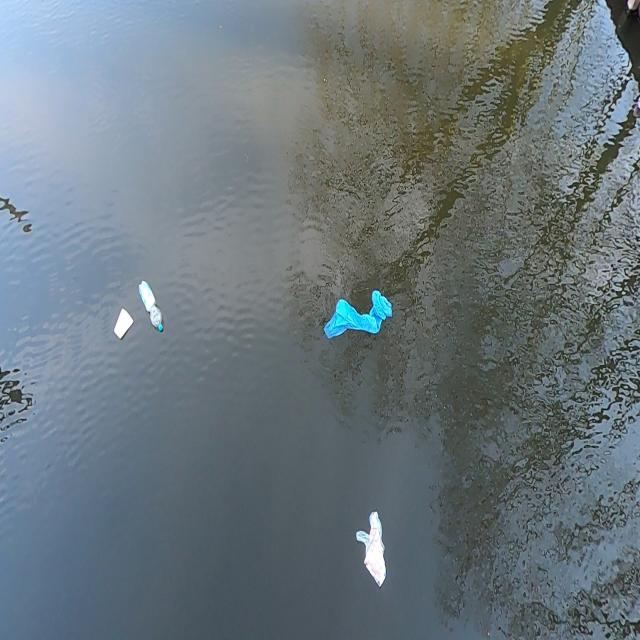Bouteille plastique: (136, 276, 166, 338)
Non plastique: (112, 304, 135, 347)
Sac plastique: (313, 284, 397, 348), (354, 506, 391, 594)
